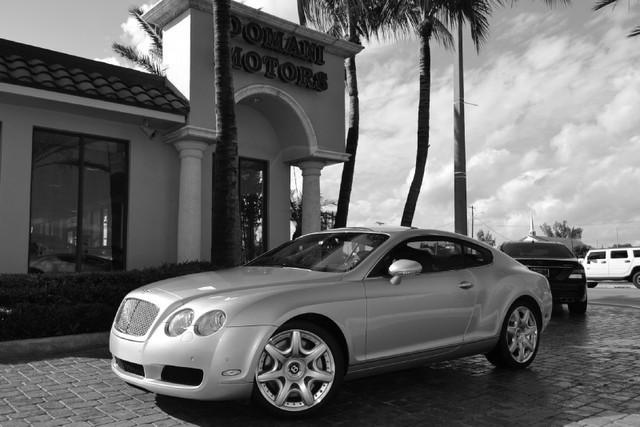car: (108, 228, 558, 415)
